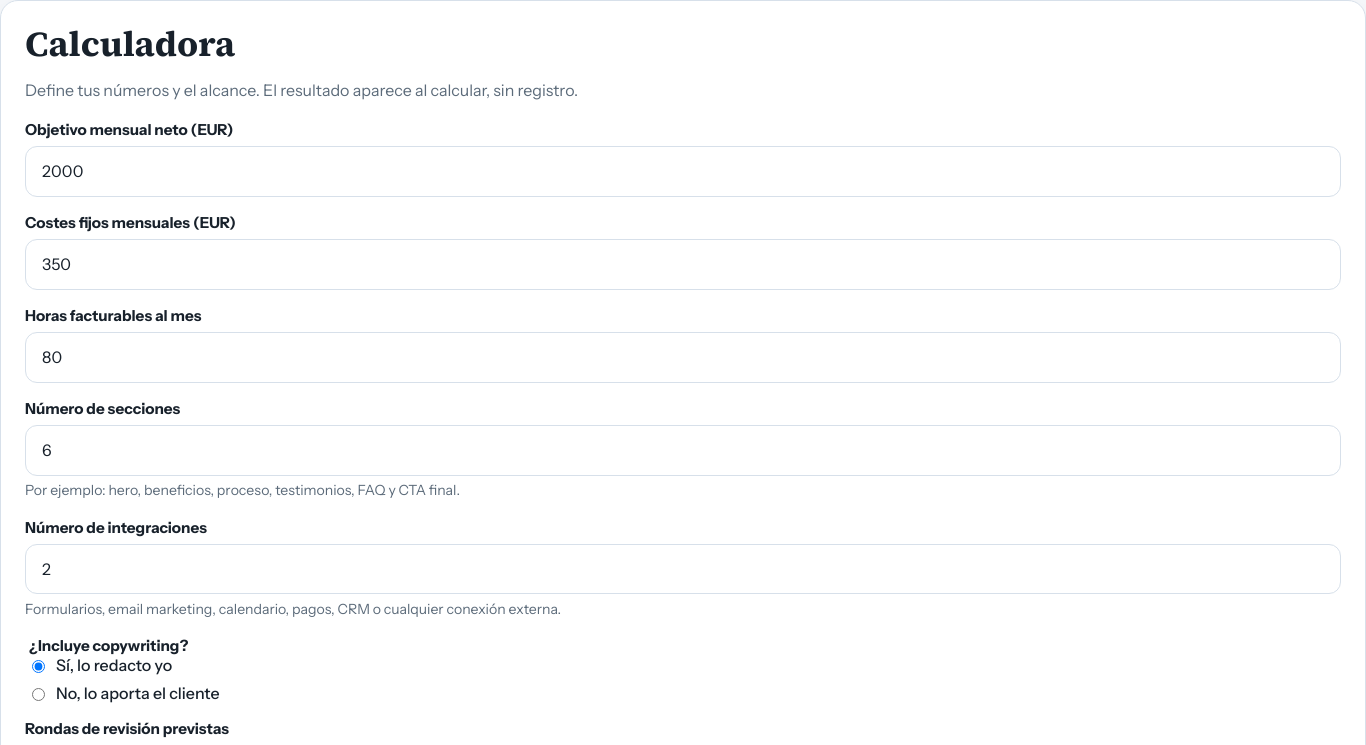
Test: CalculatorForm › preserves an invalid cost and focuses it after submission
Replace the text in the number field labelled "Costes fijos mensuales (EUR)" with "-100" at [683, 264], box [25, 239, 1341, 290]
(page scrolled)
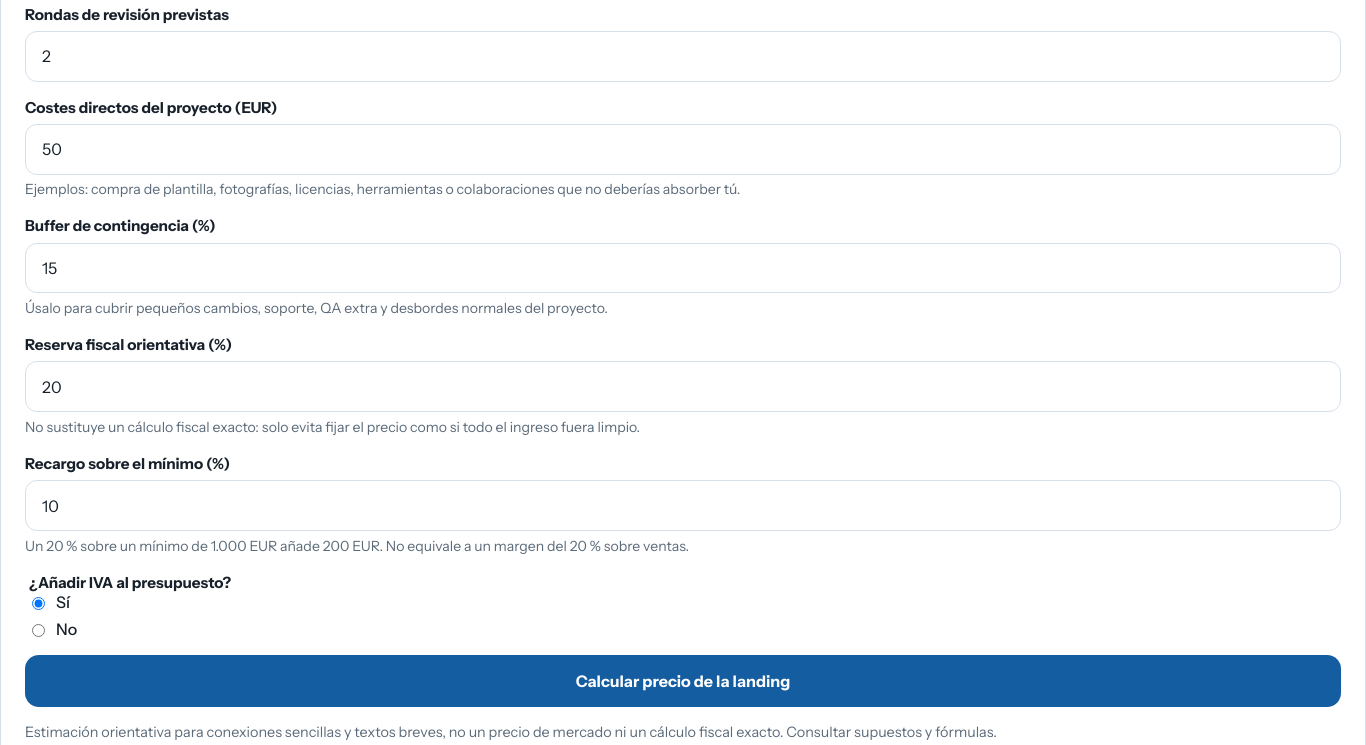
Click the button "Calcular precio de la landing" at [683, 681], box [25, 655, 1341, 707]
(page scrolled)
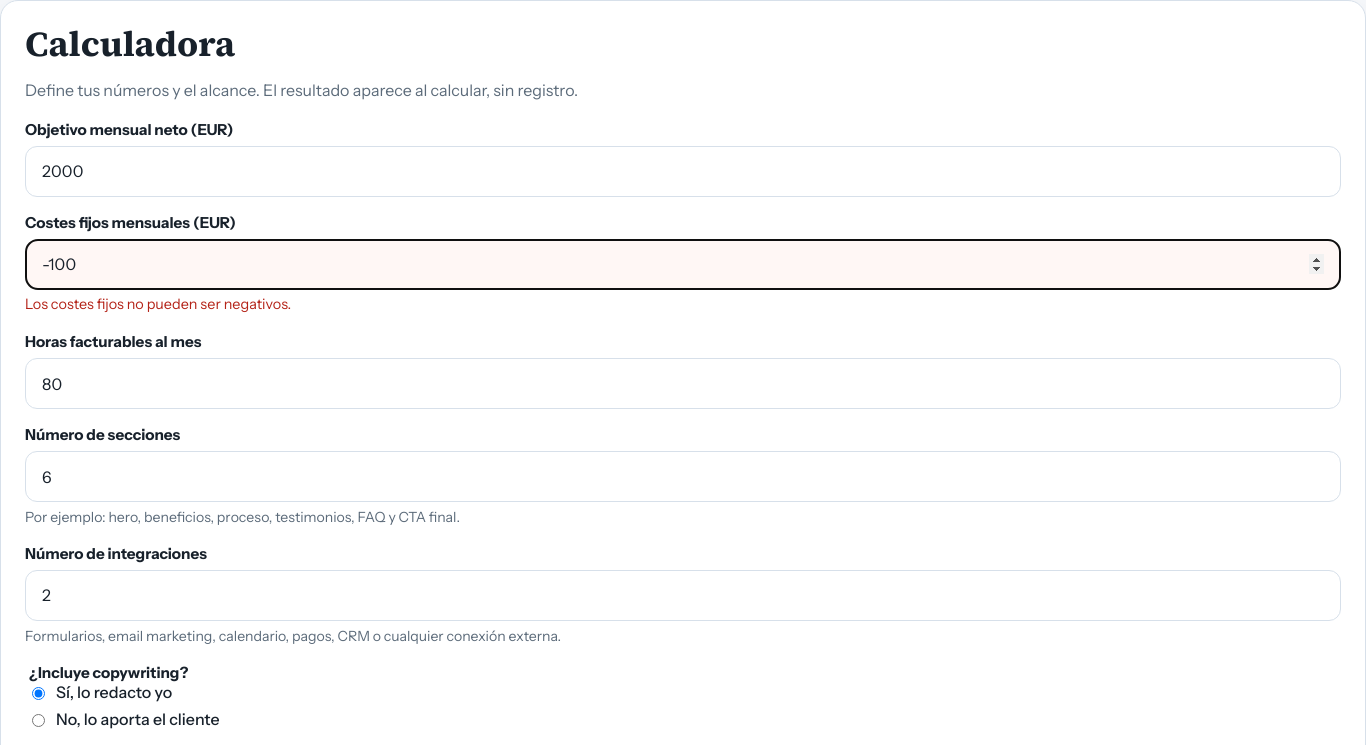
Now the text "Los costes fijos no pueden ser negativos." is shown, box [25, 296, 291, 314]
